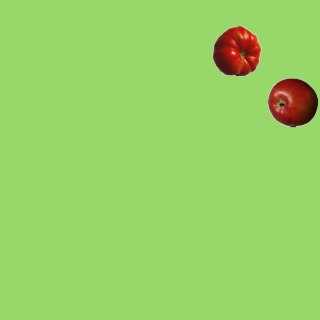Apple Braeburn: (267, 77, 317, 127)
Tomato 3: (211, 25, 261, 75)
